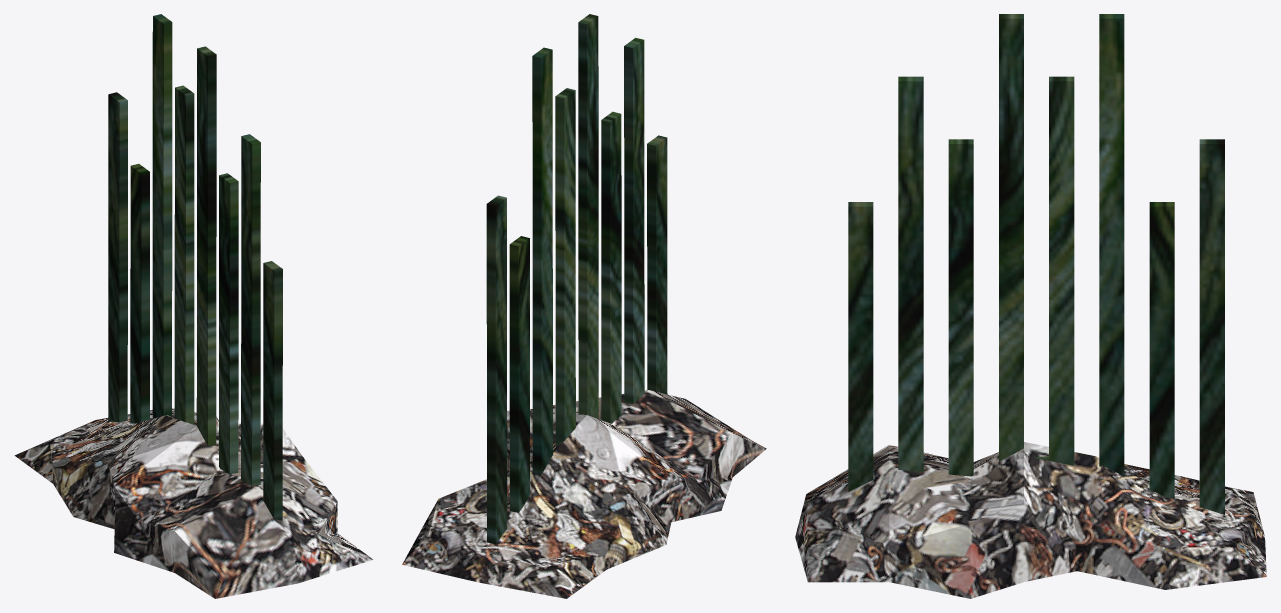
The model's file is Seaweed.fbx.
The picture shows the model from 3 angles, left to right: view 1: azimuth 30°, elevation 25°; view 2: azimuth 150°, elevation 25°; view 3: azimuth 270°, elevation 25°; orthographic projection. The views are drawn at different scales.
Parts seen in each view (by area): view 1: Plane, Cube; view 2: Plane, Cube; view 3: Plane, Cube.
Boxes of the visible parts, x1,y1,x2,y2 form: Plane: (108,14,282,520); Cube: (14,408,372,598); Plane: (486,14,667,544); Cube: (402,390,766,598); Plane: (848,14,1224,514); Cube: (795,442,1266,598).
Bounding box in the file's own units: 268 × 542 × 443.
2 materials, 2 textured.
